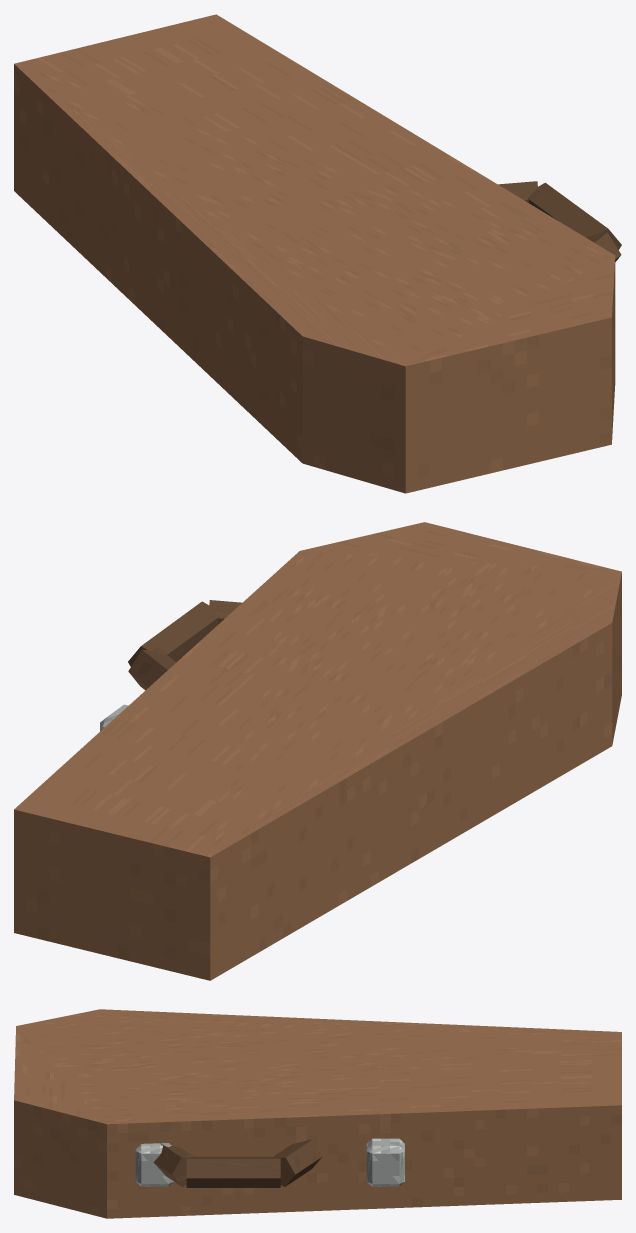
Rendered from bootsheath.glb.
3 views of the same model, one above another, from view 1: azimuth 30°, elevation 25°; view 2: azimuth 150°, elevation 25°; view 3: azimuth 270°, elevation 25° (orthographic). The views are drawn at different scales.
Visible parts, largest first — view 1: block_fitted carrying shell, block_carry handle 1; view 2: block_fitted carrying shell, block_carry handle 1, block_carry handle 0; view 3: block_fitted carrying shell, block_case latch (×2), block_carry handle 1, block_carry handle 0, block_carry handle 2.
Boxes of the visible parts, left/top/right/bottom form: block_fitted carrying shell: left=14, top=14, right=615, bottom=493; block_carry handle 1: left=527, top=182, right=621, bottom=249; block_fitted carrying shell: left=14, top=522, right=621, bottom=980; block_carry handle 1: left=128, top=601, right=219, bottom=666; block_carry handle 0: left=128, top=649, right=175, bottom=690; block_fitted carrying shell: left=14, top=1009, right=621, bottom=1218; block_case latch (×2): left=135, top=1138, right=404, bottom=1186; block_carry handle 1: left=186, top=1156, right=280, bottom=1187; block_carry handle 0: left=273, top=1139, right=322, bottom=1186; block_carry handle 2: left=153, top=1143, right=193, bottom=1186.
Size of the model in its own units: 0.0858 by 0.0276 by 0.1611.
1 material, 1 textured.
